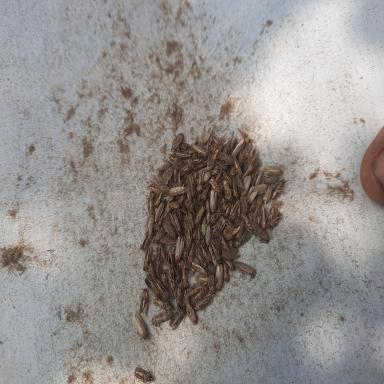pbw: (233, 261, 257, 281), (149, 311, 173, 331), (221, 244, 239, 270), (169, 305, 186, 330), (133, 363, 153, 384), (154, 275, 170, 301), (252, 221, 270, 244), (152, 294, 174, 312), (170, 208, 184, 236), (184, 297, 198, 325), (192, 294, 214, 310), (272, 177, 286, 201), (140, 229, 154, 252), (162, 220, 178, 240), (206, 262, 216, 294), (152, 199, 164, 225), (190, 286, 208, 303), (232, 232, 250, 248), (213, 216, 226, 238), (174, 236, 185, 262), (159, 166, 174, 185), (199, 242, 213, 262), (263, 164, 283, 178), (184, 283, 204, 297), (266, 200, 278, 223), (195, 242, 206, 267), (185, 243, 196, 268), (196, 273, 217, 286), (138, 288, 148, 315), (269, 210, 284, 228), (208, 175, 222, 194), (142, 246, 152, 272), (144, 211, 154, 237), (153, 188, 164, 211), (170, 133, 184, 151), (184, 224, 194, 249), (214, 263, 223, 290), (242, 162, 258, 177), (209, 189, 219, 213), (151, 227, 166, 243), (231, 156, 243, 176), (232, 138, 246, 155), (208, 208, 222, 225), (145, 183, 163, 196), (253, 196, 264, 217), (201, 126, 213, 145), (182, 210, 191, 235), (195, 170, 211, 184), (156, 162, 170, 178), (176, 281, 184, 309), (226, 222, 240, 238), (217, 233, 230, 250), (242, 212, 253, 232), (158, 242, 168, 264), (194, 206, 205, 226), (229, 198, 239, 220), (154, 251, 162, 278), (168, 186, 186, 198), (209, 240, 218, 264), (169, 274, 177, 300), (205, 221, 213, 247), (212, 134, 225, 150), (191, 262, 207, 275), (183, 160, 195, 177), (222, 179, 232, 199), (242, 174, 251, 196), (176, 172, 190, 186), (252, 181, 267, 194), (195, 164, 214, 174), (236, 174, 245, 195), (232, 175, 240, 198), (192, 144, 206, 157), (236, 220, 245, 240), (248, 150, 258, 168), (226, 134, 236, 152), (263, 184, 273, 202), (166, 257, 174, 279), (146, 190, 154, 212), (247, 189, 258, 205), (224, 199, 233, 218), (201, 185, 210, 204), (248, 196, 258, 213), (202, 198, 210, 219), (168, 157, 182, 169), (214, 238, 221, 262), (200, 216, 208, 236), (160, 235, 176, 245), (193, 160, 209, 170), (211, 146, 221, 162), (240, 143, 248, 163), (189, 170, 195, 196), (169, 152, 182, 164), (174, 259, 181, 281), (165, 188, 176, 202), (222, 262, 229, 284), (207, 147, 215, 166), (150, 177, 162, 189), (215, 156, 226, 169), (167, 244, 177, 258), (181, 200, 195, 210), (261, 207, 267, 230), (263, 175, 280, 183), (255, 209, 262, 228), (183, 140, 195, 151), (176, 152, 192, 160), (240, 195, 247, 213), (219, 195, 226, 213), (246, 184, 254, 199), (172, 166, 178, 186), (168, 199, 180, 209), (195, 194, 202, 211), (211, 168, 224, 177), (194, 224, 200, 243), (182, 268, 188, 287), (254, 170, 262, 184), (164, 202, 170, 220), (186, 184, 192, 202), (224, 168, 232, 181), (144, 272, 157, 280), (190, 212, 196, 229), (225, 218, 235, 228), (223, 153, 233, 163), (228, 238, 233, 249)
